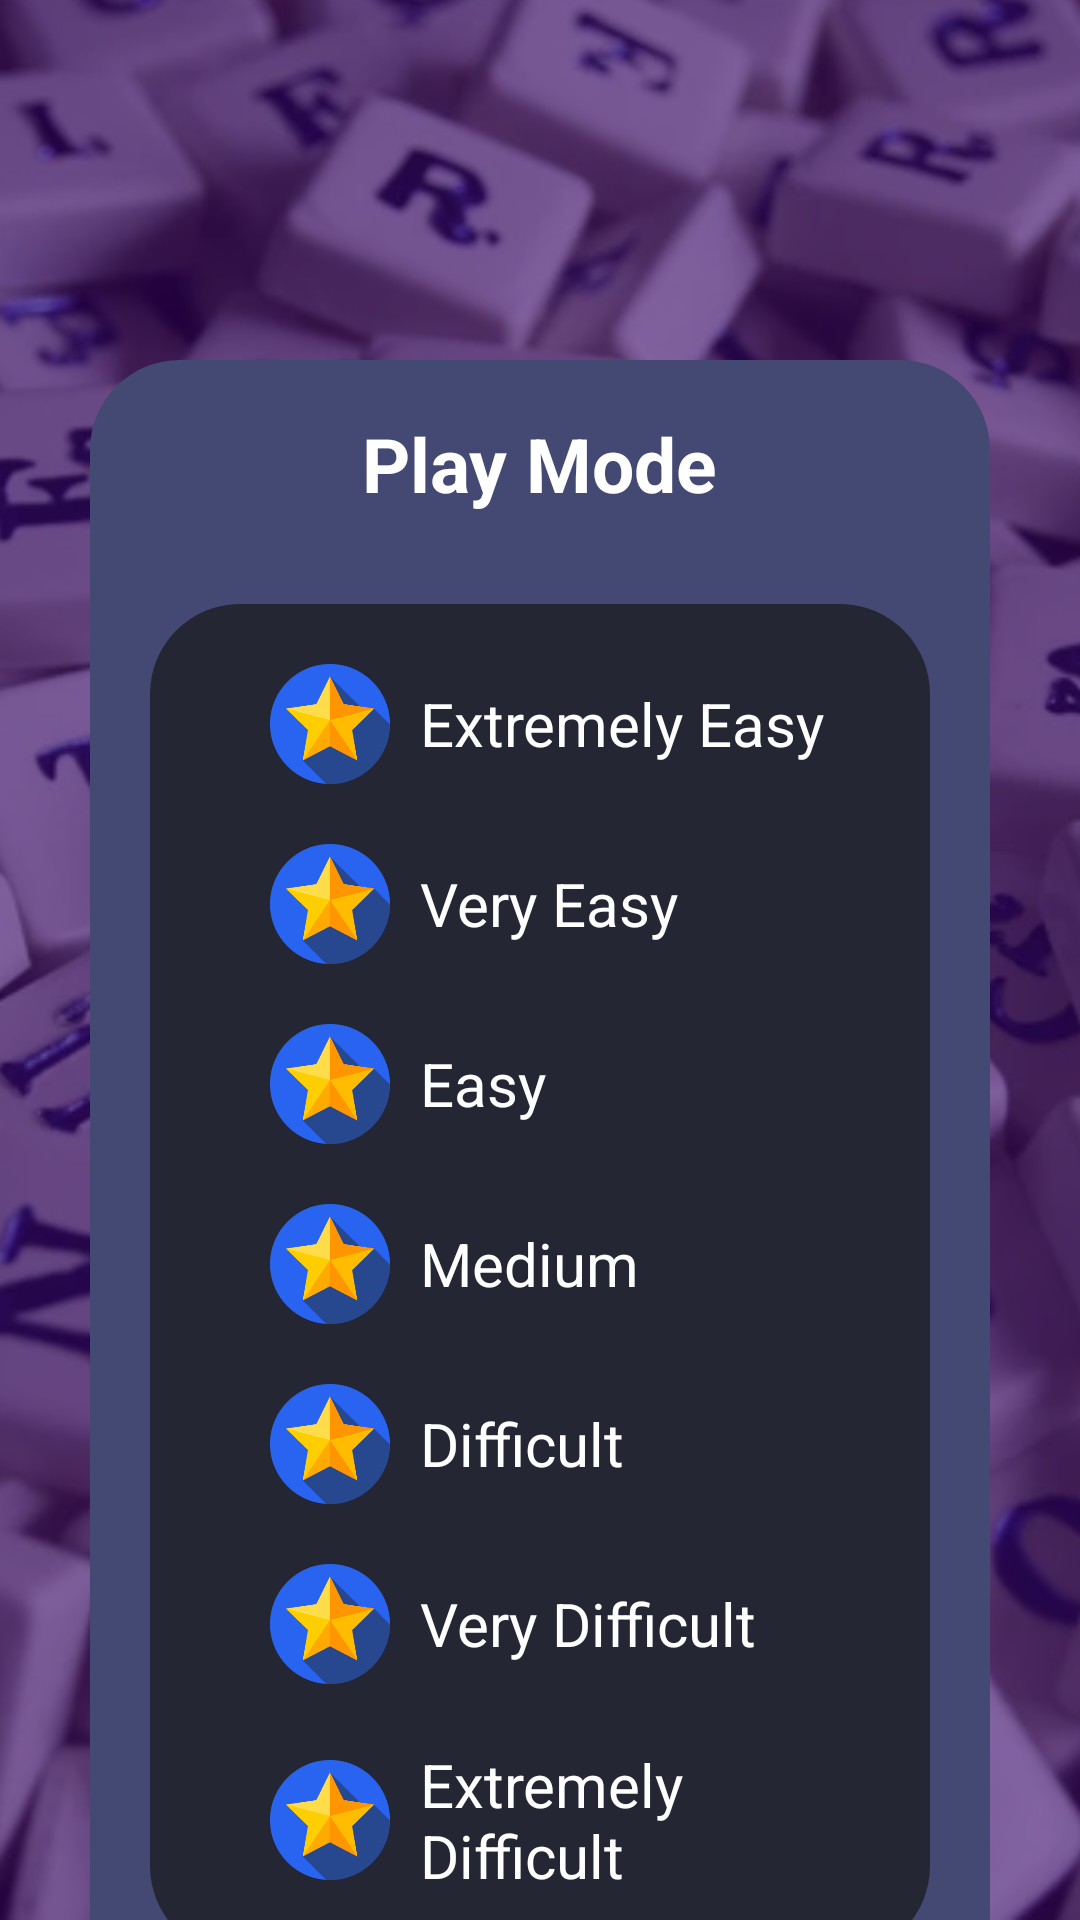

Where to tap for icons on this 1080w x 1920h app screen, as point (x, y):
star: point (330, 724), point (330, 904), point (330, 1084), point (330, 1264), point (330, 1444), point (330, 1624), point (330, 1820)
